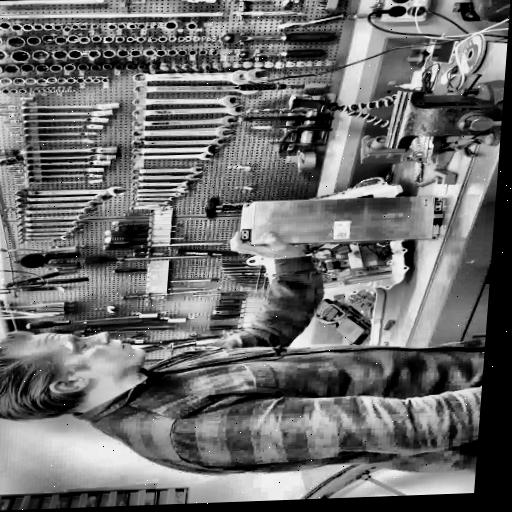battery_module: (251, 195, 436, 243)
